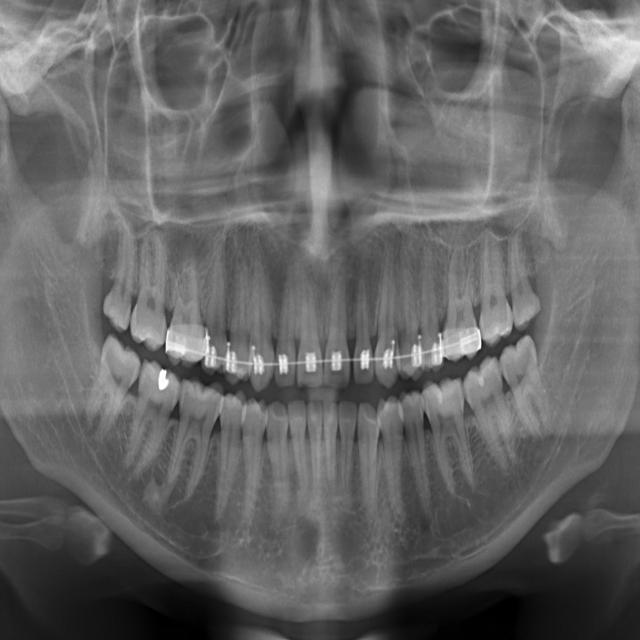AmalgamRestoration: (154, 353, 178, 398), (432, 376, 450, 420), (475, 361, 491, 402)
